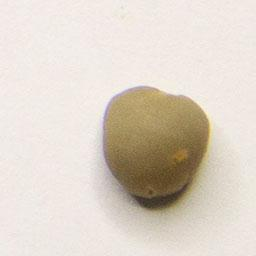peaberry: (97, 82, 212, 204)
